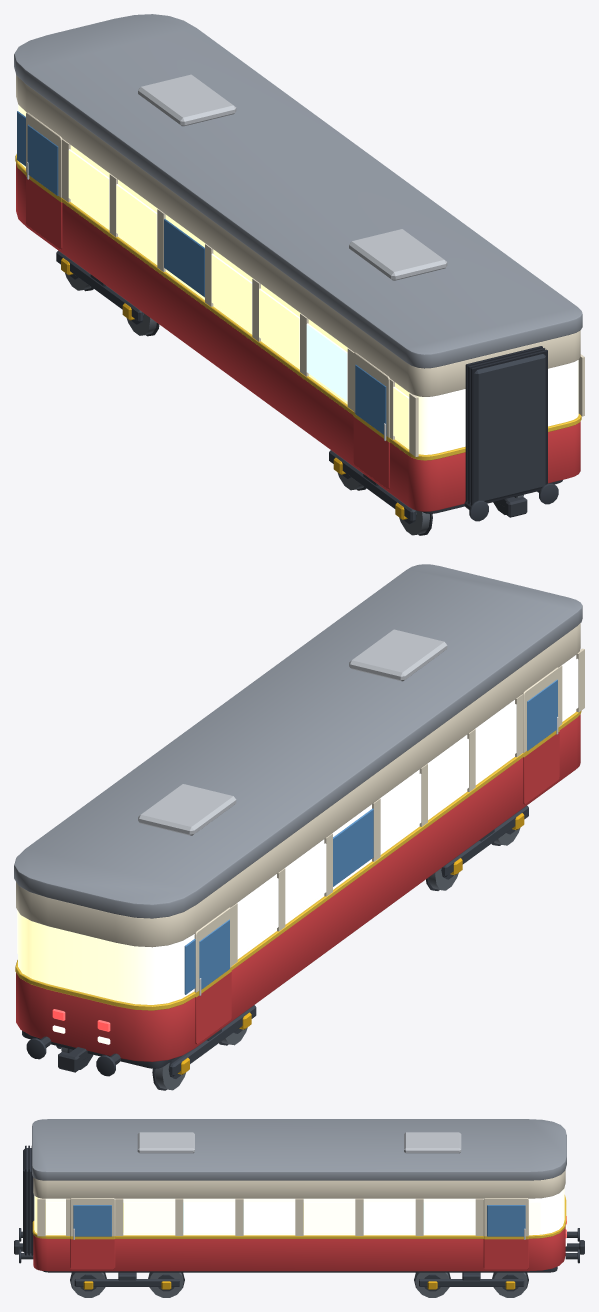
Rendered from trem_vagao_cauda.glb.
3 renders of one model, top to bottom at view 1: azimuth 30°, elevation 25°; view 2: azimuth 150°, elevation 25°; view 3: azimuth 270°, elevation 25°, orthographic. The views are drawn at different scales.
Parts seen in each view (by area): view 1: trem_vagao_cauda, porta_correr_1, porta_correr_2, roda_1; view 2: trem_vagao_cauda, porta_correr_2, porta_correr_1, roda_4; view 3: trem_vagao_cauda, porta_correr_3, porta_correr_4, roda_1, roda_4, roda_2, roda_3.
Boxes of the visible parts, x1,y1,x2,y2 form: trem_vagao_cauda: [14, 14, 584, 521]; porta_correr_1: [353, 352, 389, 489]; porta_correr_2: [26, 112, 62, 249]; roda_1: [399, 494, 523, 535]; trem_vagao_cauda: [14, 564, 584, 1076]; porta_correr_2: [194, 907, 231, 1044]; porta_correr_1: [523, 667, 559, 804]; roda_4: [61, 1047, 185, 1090]; trem_vagao_cauda: [14, 1119, 584, 1289]; porta_correr_3: [70, 1198, 115, 1269]; porta_correr_4: [483, 1198, 528, 1269]; roda_1: [70, 1272, 106, 1297]; roda_4: [492, 1272, 528, 1297]; roda_2: [148, 1272, 184, 1297]; roda_3: [414, 1272, 450, 1297].
Bounding box in the file's own units: 3.09 × 3.86 × 13.94.
6 materials, 1 textured.
